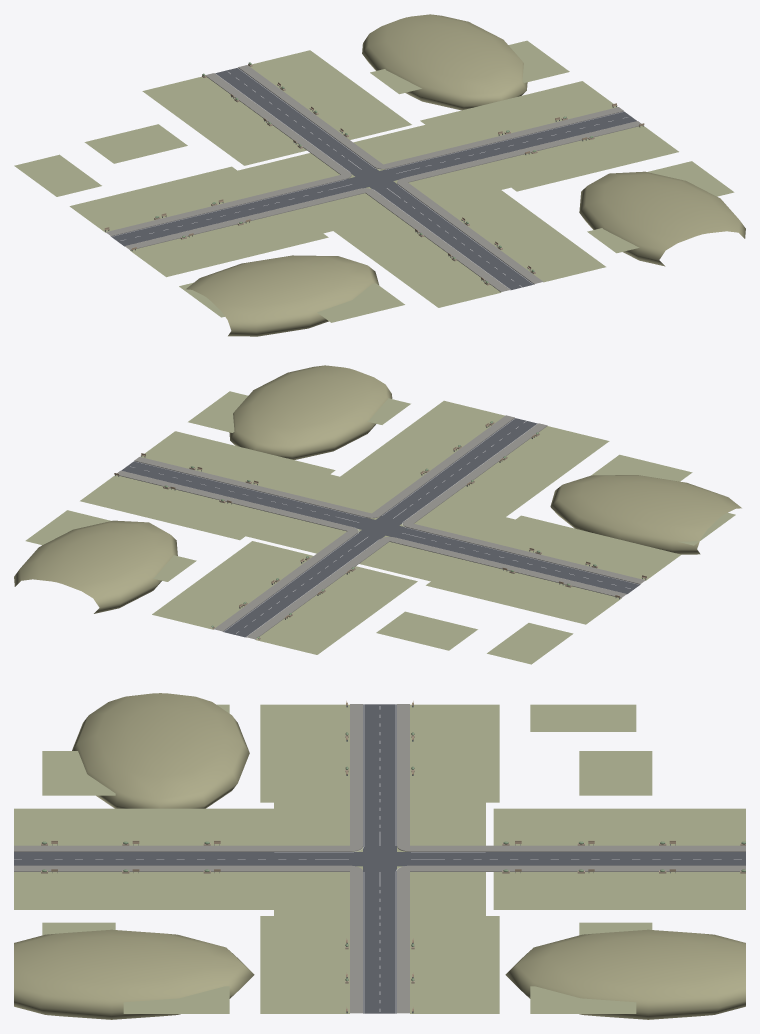
3 renders of one model, top to bottom at view 1: azimuth 30°, elevation 25°; view 2: azimuth 150°, elevation 25°; view 3: azimuth 270°, elevation 25°, orthographic. The views are drawn at different scales.
Visible parts, largest first — view 1: static; view 2: static; view 3: static.
Boxes of the visible parts, x1,y1,x2,y2 form: static: [14, 14, 745, 336]; static: [14, 365, 741, 664]; static: [14, 693, 745, 1019].
Size of what is drawn, in the model's own units: 180 by 14.08 by 180.
